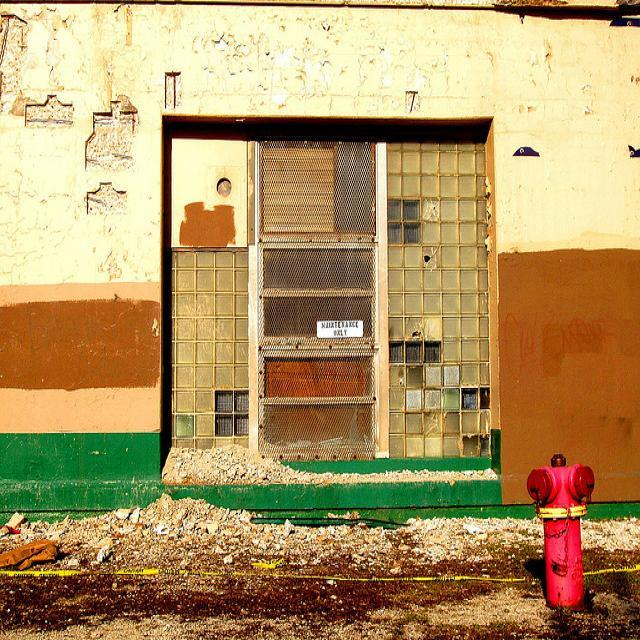fire_hydrant: (526, 450, 589, 615)
